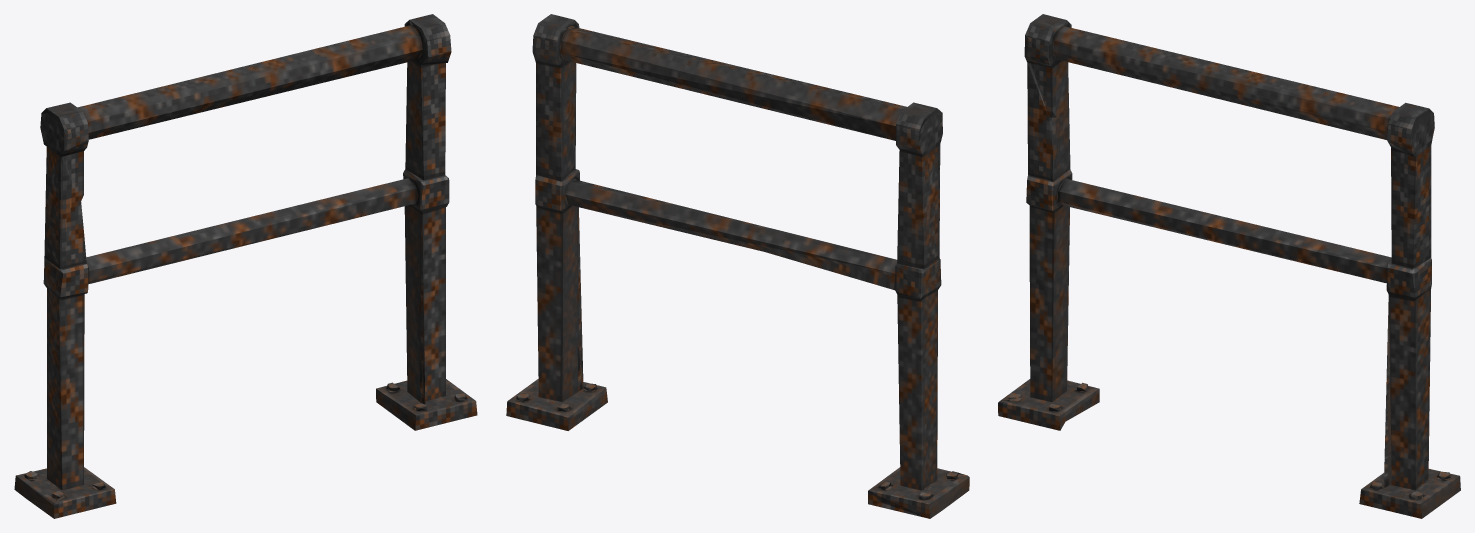
The model's file is Meshy_AI_model.glb.
3 views of the same model, side by side, from view 1: azimuth 30°, elevation 25°; view 2: azimuth 150°, elevation 25°; view 3: azimuth 330°, elevation 25° (orthographic).
Visible parts, largest first — view 1: output_unwrapped; view 2: output_unwrapped; view 3: output_unwrapped.
Part boxes in pixels (x1,y1,x2,y2): output_unwrapped: [14, 14, 477, 518]; output_unwrapped: [506, 14, 969, 518]; output_unwrapped: [998, 14, 1460, 518].
Size of the model in its own units: 1.9 by 1.66 by 0.3072.
1 material, 1 textured.
